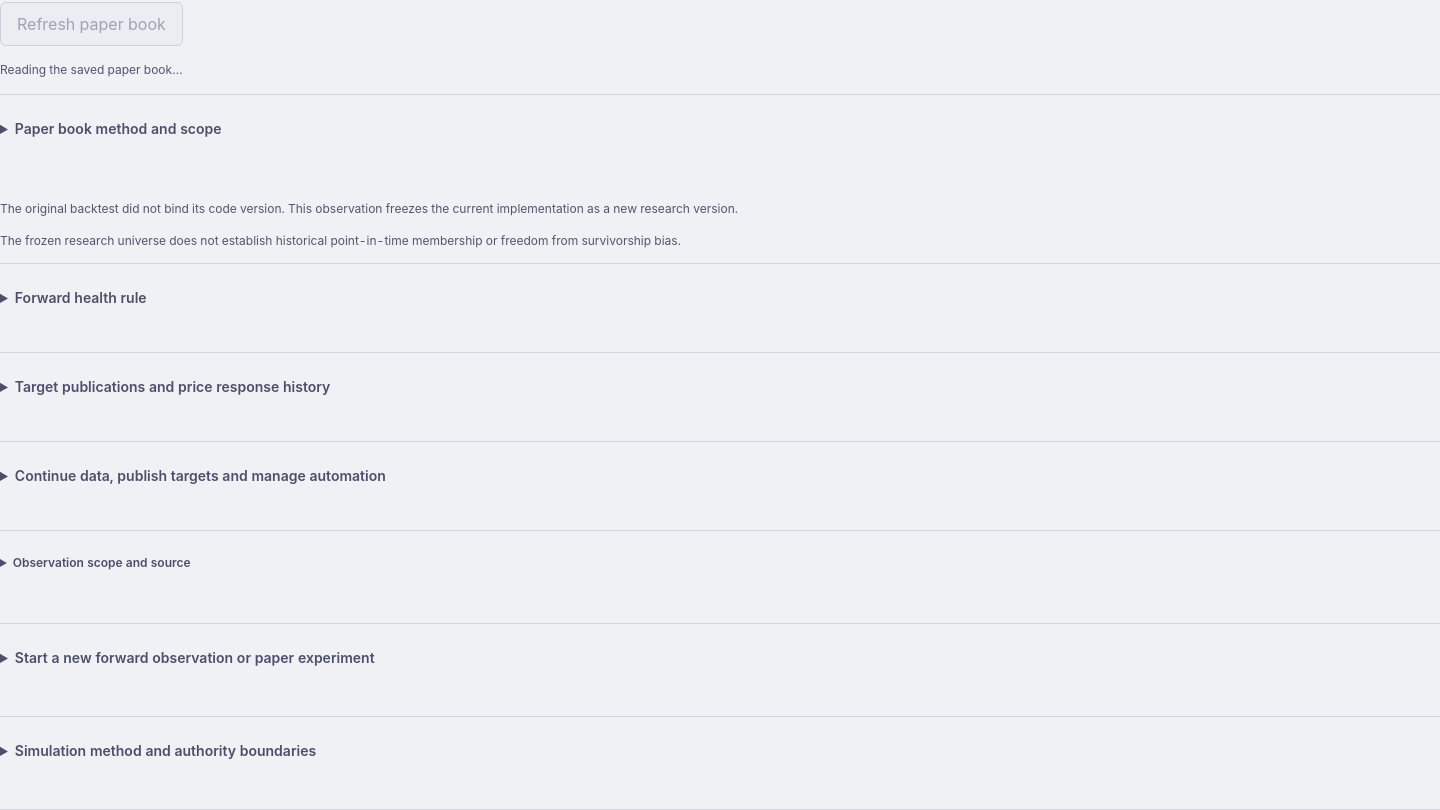
Test case: legacy state and failed refresh cannot imply enabled state; diagnostics remain inspectable
(page scrolled)
Click the heading "Continue data, publish targets and manage automation": (200, 476) [15,467,386,484]
(page scrolled)
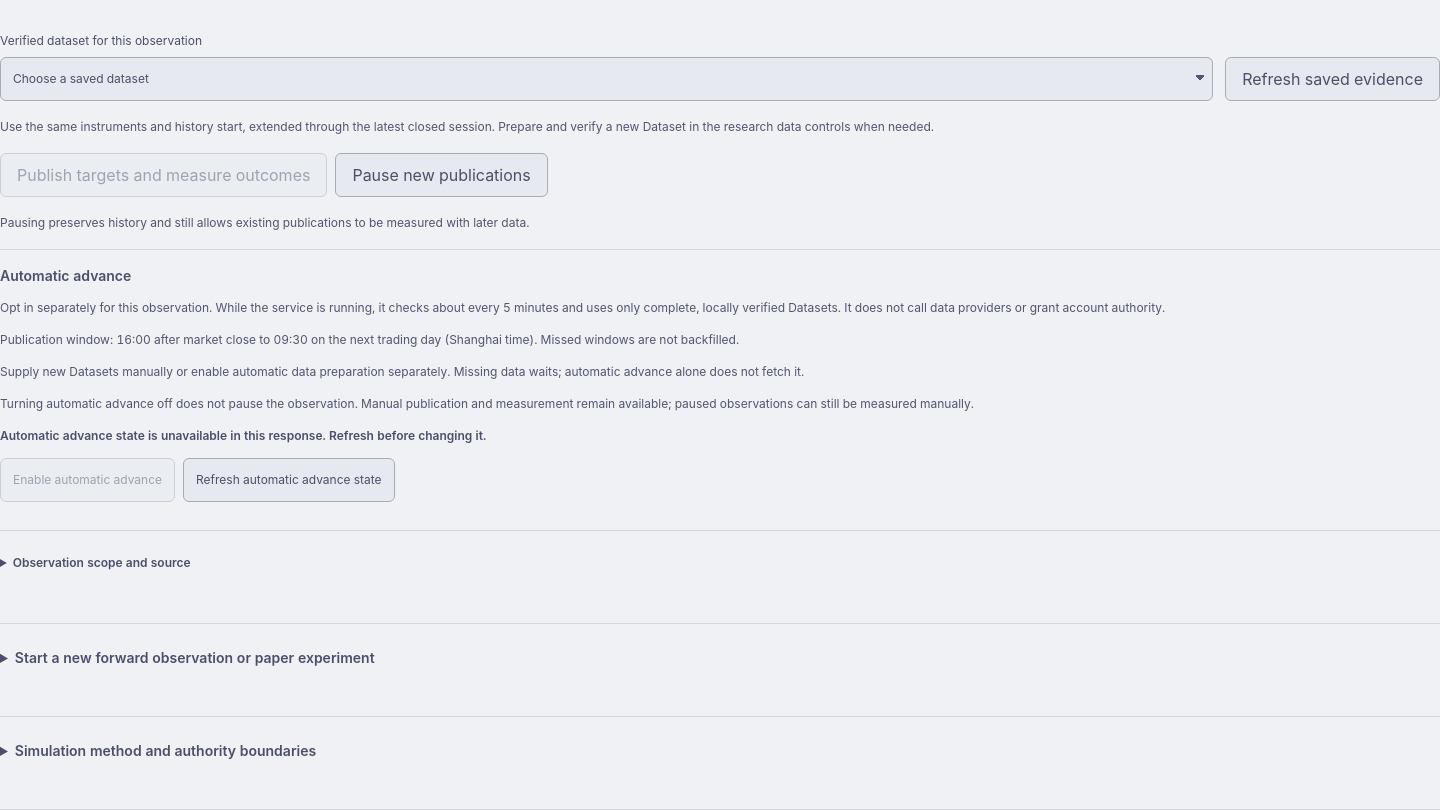
Now the message shows "unavailable in this response", box [0,428,486,443]
Now the button "Enable automatic advance" is disabled, box [0,458,175,502]
Click the button "Refresh automatic advance state": (289, 480) [183,458,394,502]
(page scrolled)
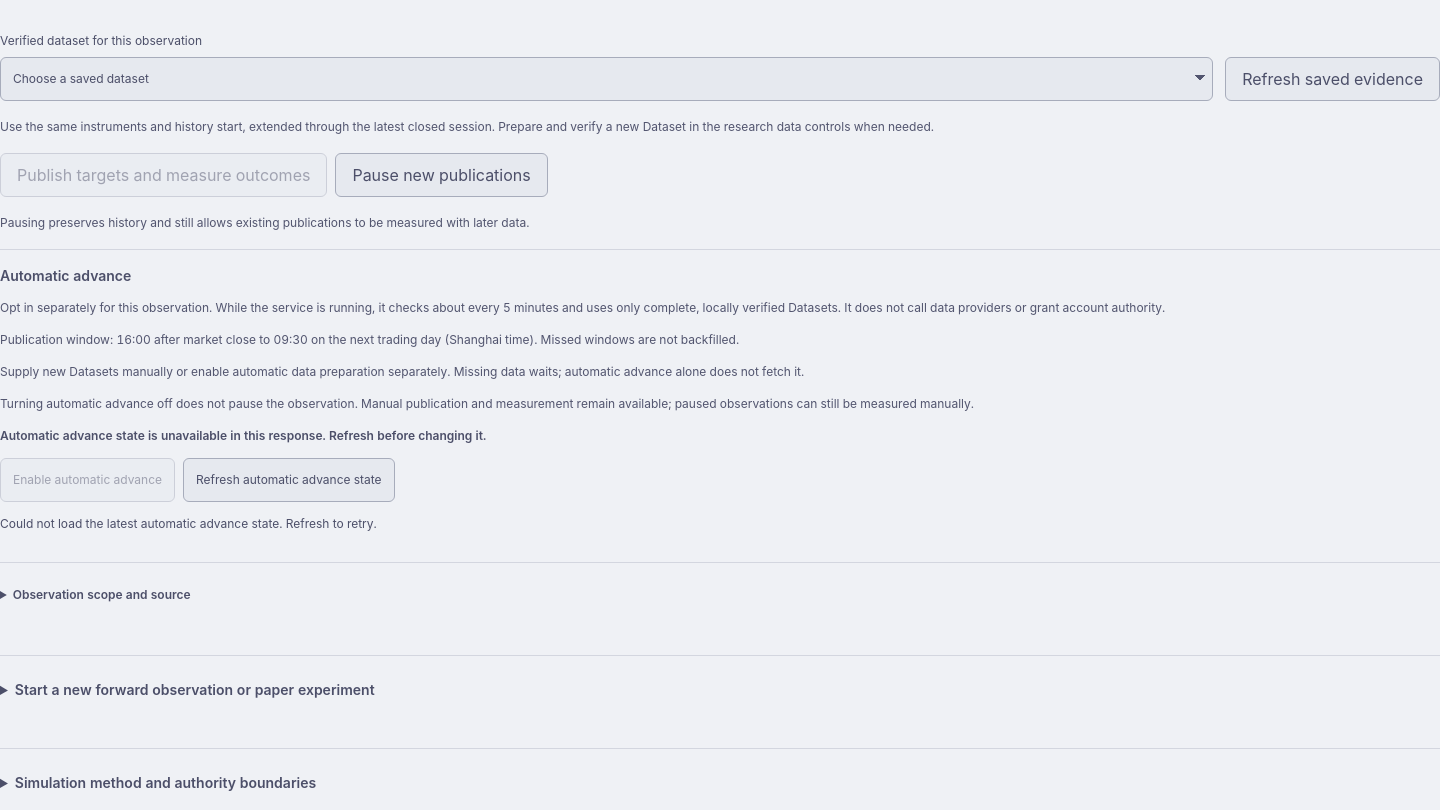
Now the message "Could not load the latest automatic advance state. Refresh to retry." is shown, box [0,516,377,531]
Click the button "Refresh automatic advance state": (289, 480) [183,458,394,502]
(page scrolled)
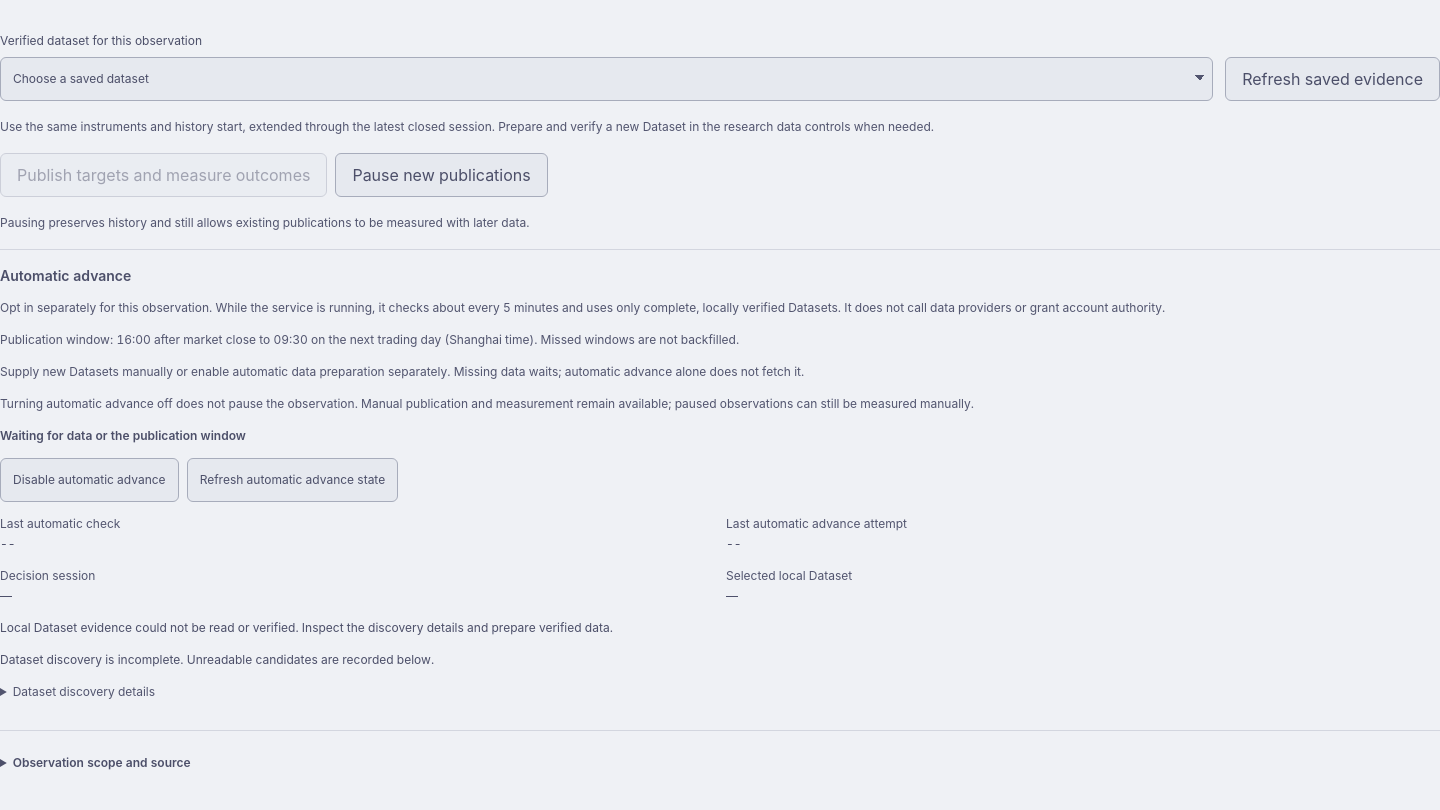
Now the button "Disable automatic advance" is enabled, box [0,458,179,502]
Click the heading "Dataset discovery details": (84, 692) [13,684,155,699]
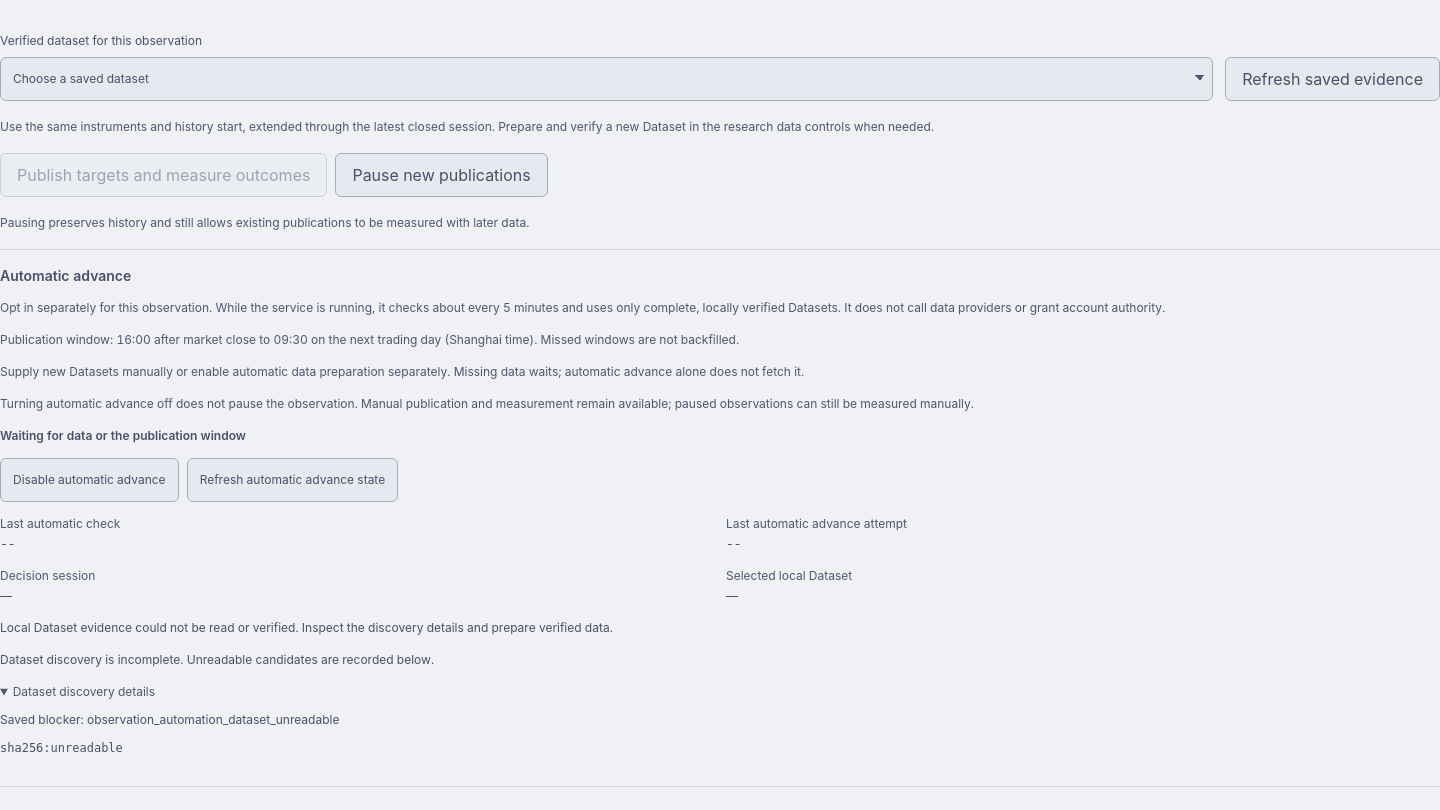
Now the text "Dataset discovery is incomplete" is shown, box [0,652,434,667]
Now the text "sha256:unreadable" is shown, box [0,741,123,755]
